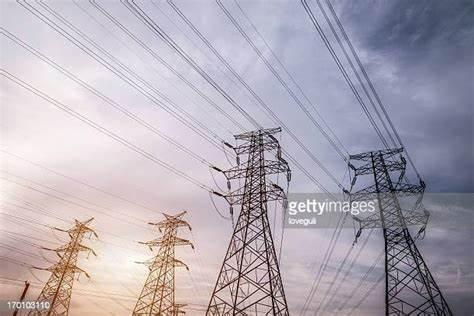power_tower: (343, 146, 459, 316), (204, 123, 290, 316), (26, 211, 104, 316), (130, 210, 191, 316)
